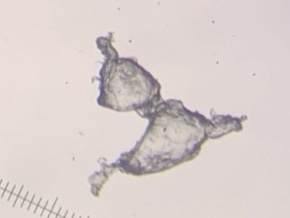microplastic: (87, 31, 248, 197)
